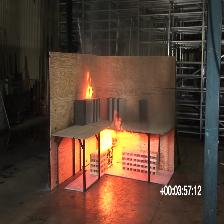fire: (101, 110, 140, 165), (86, 69, 93, 98)
